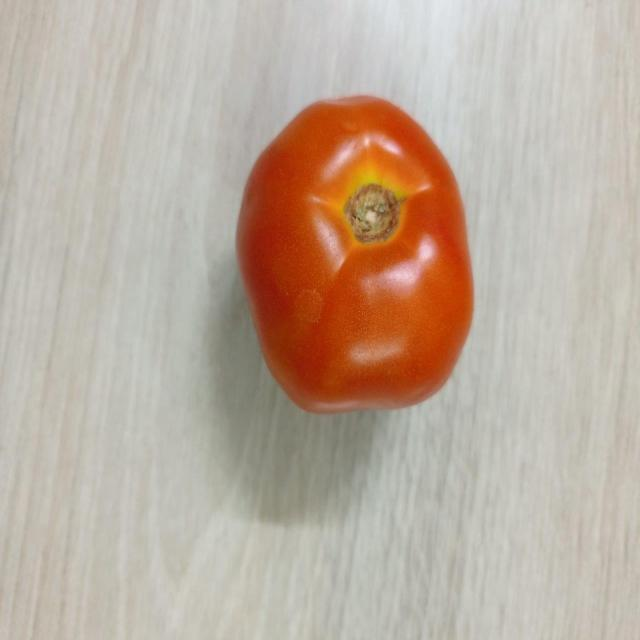Tomato: (233, 92, 475, 416)
